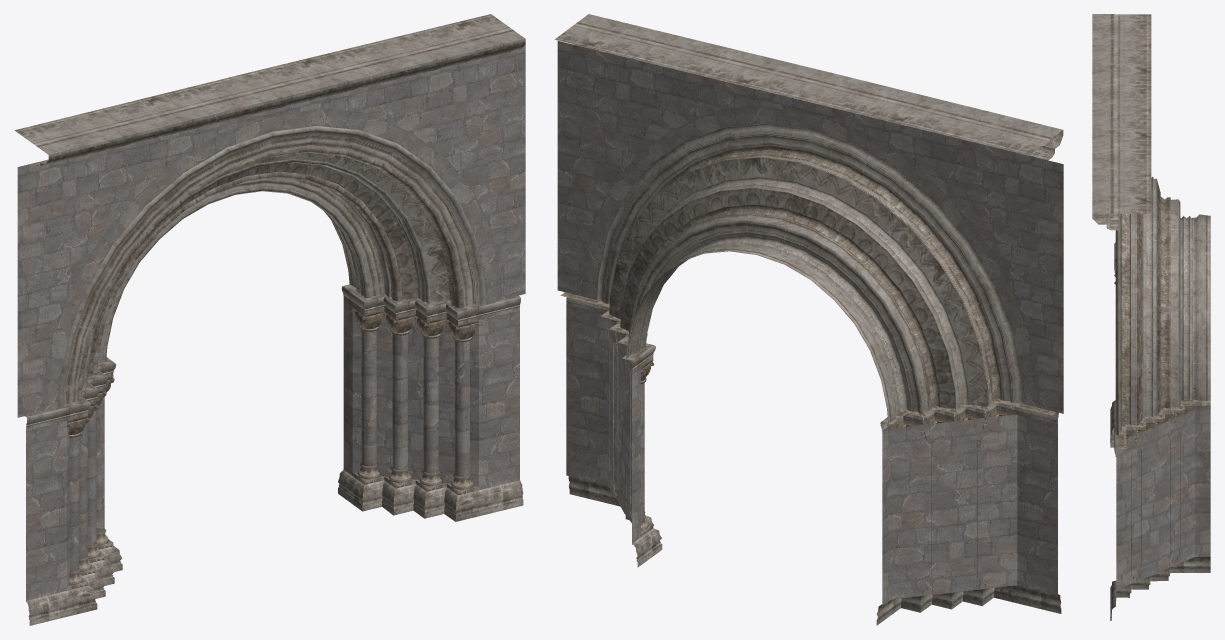
The picture shows the model from 3 angles, left to right: view 1: azimuth 30°, elevation 25°; view 2: azimuth 150°, elevation 25°; view 3: azimuth 270°, elevation 25°; orthographic projection. The views are drawn at different scales.
Parts seen in each view (by area): view 1: SM_Portal01_cut_LOD0; view 2: SM_Portal01_cut_LOD0; view 3: SM_Portal01_cut_LOD0.
Part boxes in pixels (x1,y1,x2,y2): SM_Portal01_cut_LOD0: [14, 14, 525, 625]; SM_Portal01_cut_LOD0: [555, 14, 1063, 625]; SM_Portal01_cut_LOD0: [1092, 14, 1210, 620].
Bounding box in the file's own units: 7.8 × 7 × 1.84.
3 materials, 3 textured.
